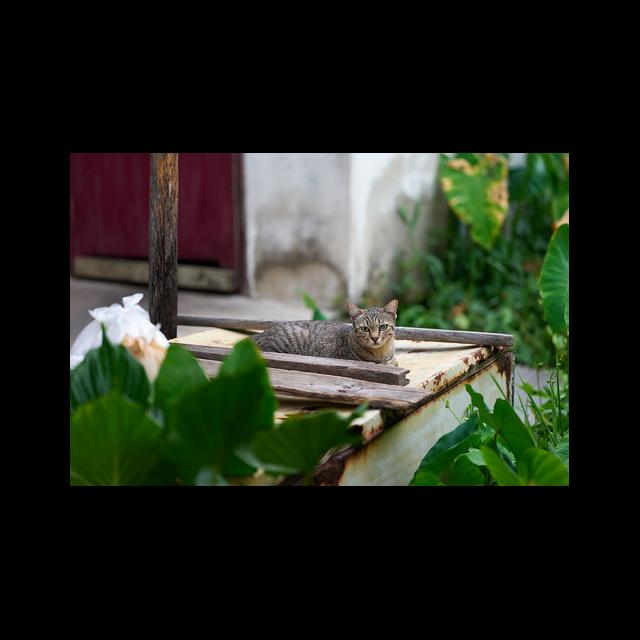animals: (247, 298, 400, 363)
